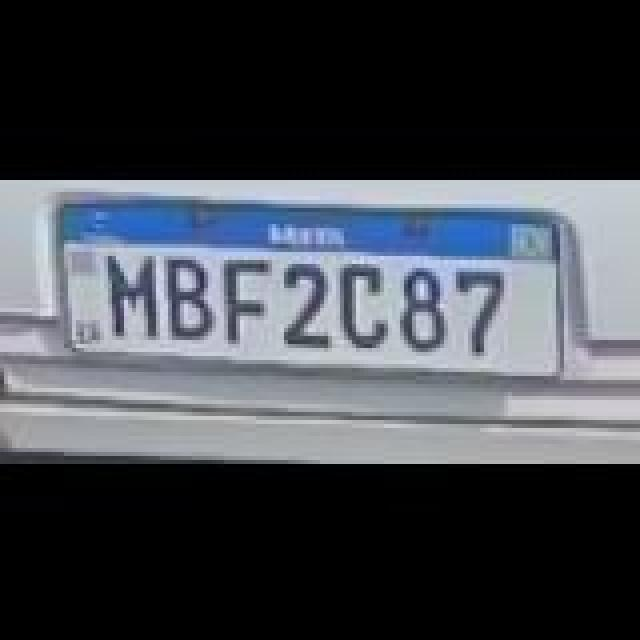2: (280, 260, 344, 348)
7: (454, 264, 514, 352)
8: (396, 266, 452, 350)
B: (160, 254, 224, 338)
C: (338, 262, 398, 346)
F: (218, 256, 278, 344)
M: (100, 248, 172, 336)
